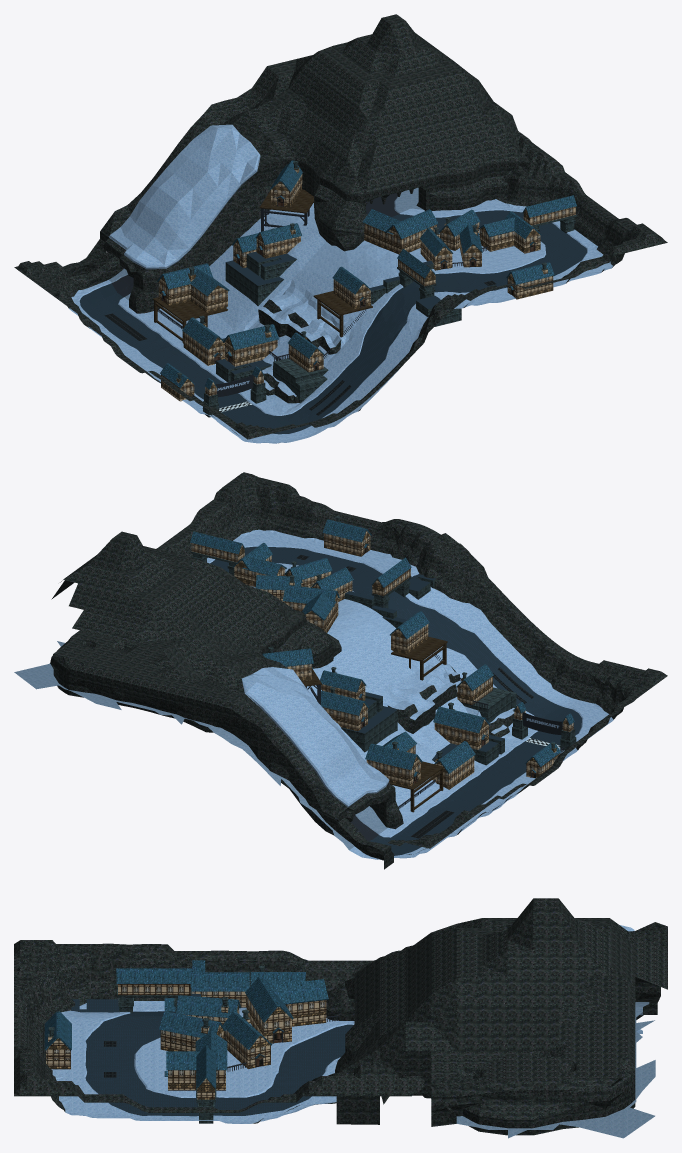
3 views of the same model, one above another, from view 1: azimuth 30°, elevation 25°; view 2: azimuth 150°, elevation 25°; view 3: azimuth 270°, elevation 25° (orthographic). The views are drawn at different scales.
Visible parts, largest first — view 1: Narsche_Track_2k17_Main-rock, Narsche_Track_2k17_Main-snow, Narsche_Track_2k17_Main-floor1, Narsche_Track_2k17_Main-roof, Narsche_Track_2k17_Main-house2, Narsche_Track_2k17_Main-bricks, Narsche_Track_2k17_Main-house1, Narsche_Track_2k17_Main-wood, Narsche_Track_2k17_Main-floor2, Narsche_Track_2k17_Main-grate; view 2: Narsche_Track_2k17_Main-rock, Narsche_Track_2k17_Main-snow, Narsche_Track_2k17_Main-floor1, Narsche_Track_2k17_Main-roof, Narsche_Track_2k17_Main-house1, Narsche_Track_2k17_Main-bricks, Narsche_Track_2k17_Main-house2, Narsche_Track_2k17_Main-snowdark, Narsche_Track_2k17_Main-wood, Narsche_Track_2k17_Main-floor2, Narsche_Track_2k17_Main-grate; view 3: Narsche_Track_2k17_Main-rock, Narsche_Track_2k17_Main-roof, Narsche_Track_2k17_Main-floor1, Narsche_Track_2k17_Main-snow, Narsche_Track_2k17_Main-house1, Narsche_Track_2k17_Main-house2, Narsche_Track_2k17_Main-snowdark, Narsche_Track_2k17_Main-bricks.
Part boxes in pixels (x1=…): Narsche_Track_2k17_Main-rock: x1=14, y1=14, x2=667, y2=439; Narsche_Track_2k17_Main-snow: x1=69, y1=124, x2=612, y2=443; Narsche_Track_2k17_Main-floor1: x1=79, y1=210, x2=586, y2=434; Narsche_Track_2k17_Main-roof: x1=157, y1=160, x2=576, y2=389; Narsche_Track_2k17_Main-house2: x1=158, y1=167, x2=553, y2=401; Narsche_Track_2k17_Main-bricks: x1=177, y1=161, x2=576, y2=417; Narsche_Track_2k17_Main-house1: x1=158, y1=174, x2=575, y2=396; Narsche_Track_2k17_Main-wood: x1=153, y1=189, x2=372, y2=343; Narsche_Track_2k17_Main-floor2: x1=111, y1=193, x2=604, y2=401; Narsche_Track_2k17_Main-grate: x1=104, y1=280, x2=495, y2=415; Narsche_Track_2k17_Main-rock: x1=50, y1=472, x2=667, y2=869; Narsche_Track_2k17_Main-snow: x1=207, y1=529, x2=613, y2=859; Narsche_Track_2k17_Main-floor1: x1=210, y1=546, x2=582, y2=855; Narsche_Track_2k17_Main-roof: x1=190, y1=519, x2=574, y2=776; Narsche_Track_2k17_Main-house1: x1=191, y1=533, x2=573, y2=782; Narsche_Track_2k17_Main-bricks: x1=190, y1=516, x2=576, y2=765; Narsche_Track_2k17_Main-house2: x1=234, y1=522, x2=568, y2=789; Narsche_Track_2k17_Main-snowdark: x1=14, y1=641, x2=387, y2=850; Narsche_Track_2k17_Main-wood: x1=301, y1=636, x2=447, y2=812; Narsche_Track_2k17_Main-floor2: x1=246, y1=544, x2=564, y2=841; Narsche_Track_2k17_Main-grate: x1=296, y1=555, x2=533, y2=838; Narsche_Track_2k17_Main-rock: x1=14, y1=898, x2=667, y2=1135; Narsche_Track_2k17_Main-roof: x1=44, y1=960, x2=328, y2=1088; Narsche_Track_2k17_Main-floor1: x1=71, y1=994, x2=353, y2=1116; Narsche_Track_2k17_Main-snow: x1=51, y1=925, x2=642, y2=1123; Narsche_Track_2k17_Main-house1: x1=46, y1=984, x2=326, y2=1080; Narsche_Track_2k17_Main-house2: x1=46, y1=1001, x2=326, y2=1099; Narsche_Track_2k17_Main-snowdark: x1=353, y1=1002, x2=655, y2=1138; Narsche_Track_2k17_Main-bricks: x1=48, y1=965, x2=264, y2=1123.
Size of the model in its own units: 46915 by 24384 by 45972.
Materials: 13 (13 with a texture image).
